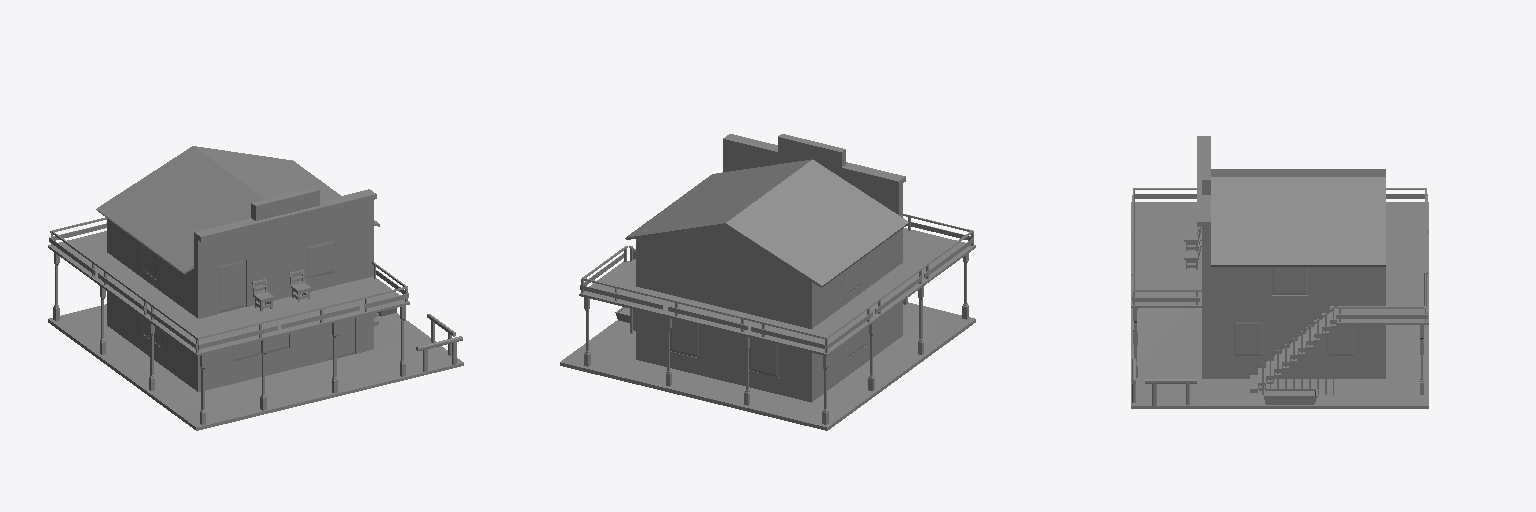
Rendered from hotel.obj.
3 views of the same model, side by side, from view 1: azimuth 30°, elevation 25°; view 2: azimuth 150°, elevation 25°; view 3: azimuth 270°, elevation 25° (orthographic).
Parts seen in each view (by area): view 1: main_building; view 2: main_building; view 3: main_building.
Boxes of the visible parts, x1,y1,x2,y2 form: main_building: [48, 146, 463, 430]; main_building: [560, 134, 975, 430]; main_building: [1131, 136, 1428, 408].
Size of the model in its own units: 117 by 73.58 by 113.